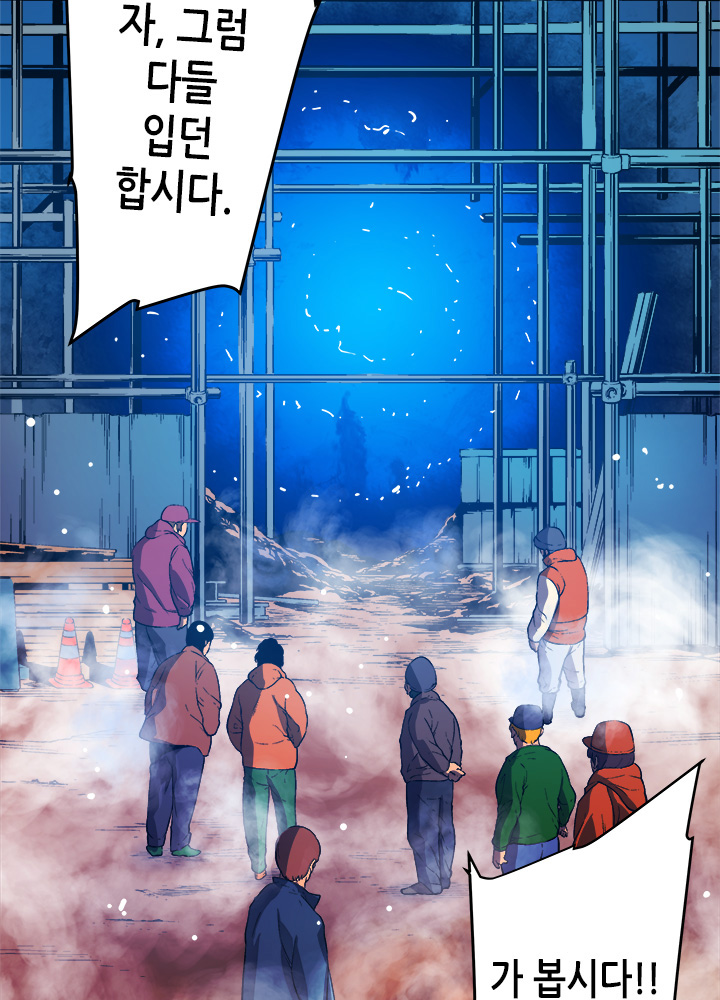dialog box: (29, 1, 354, 373), (423, 731, 720, 997)
text: (92, 1, 275, 246), (469, 927, 675, 1000)
